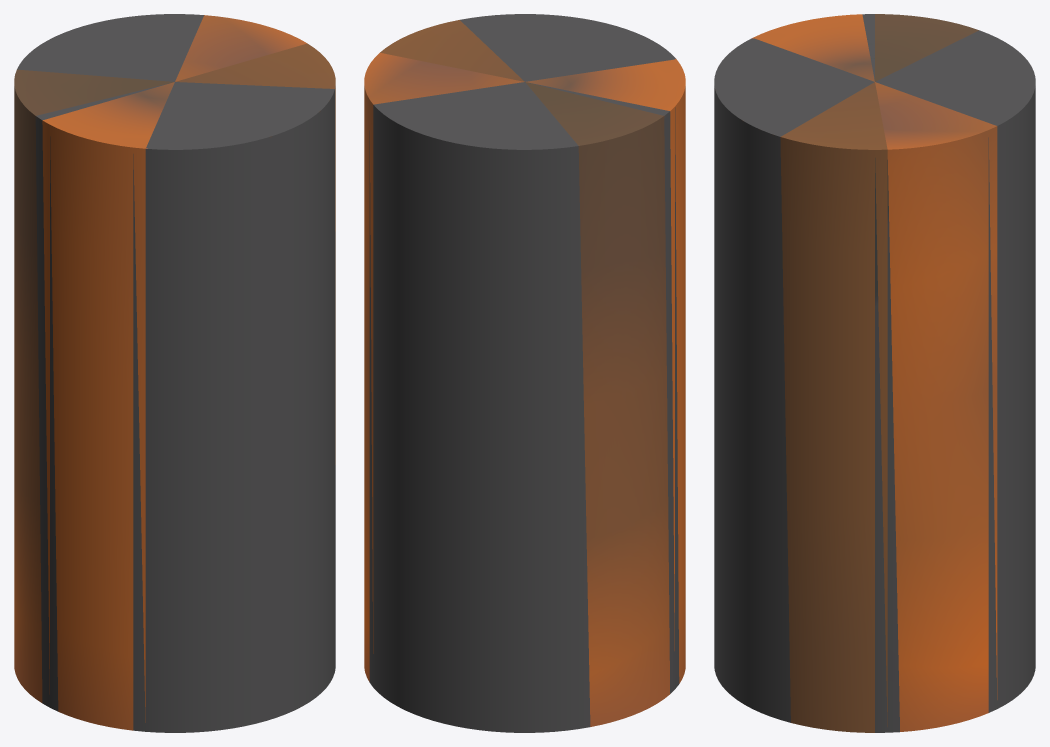
File: target.fbx
The picture shows the model from 3 angles, left to right: view 1: azimuth 30°, elevation 25°; view 2: azimuth 150°, elevation 25°; view 3: azimuth 270°, elevation 25°; orthographic projection.
Parts seen in each view (by area): view 1: node_id5; view 2: node_id5; view 3: node_id5.
Boxes of the visible parts, x1,y1,x2,y2 form: node_id5: (14, 14, 335, 732); node_id5: (364, 14, 685, 732); node_id5: (714, 14, 1035, 732).
Size of the model in its own units: 0.256 by 0.512 by 0.256.
1 material, 1 textured.
